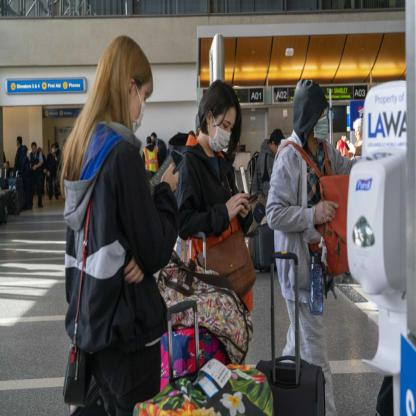Not_Wearing_Mask: (30, 143, 38, 155)
Wearing_Mask: (130, 70, 149, 138), (212, 103, 234, 157), (311, 100, 329, 150)
